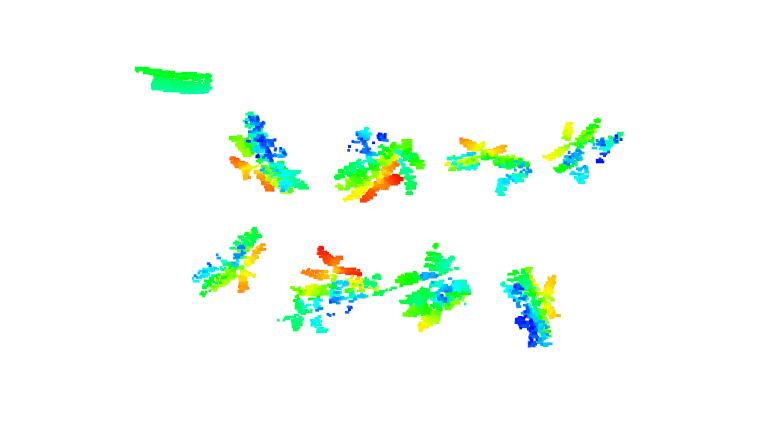chickpea: (281, 245, 382, 332), (224, 108, 307, 198), (334, 126, 429, 203), (396, 241, 468, 327), (190, 227, 270, 299), (544, 113, 625, 183), (443, 139, 538, 198), (502, 261, 562, 350)
